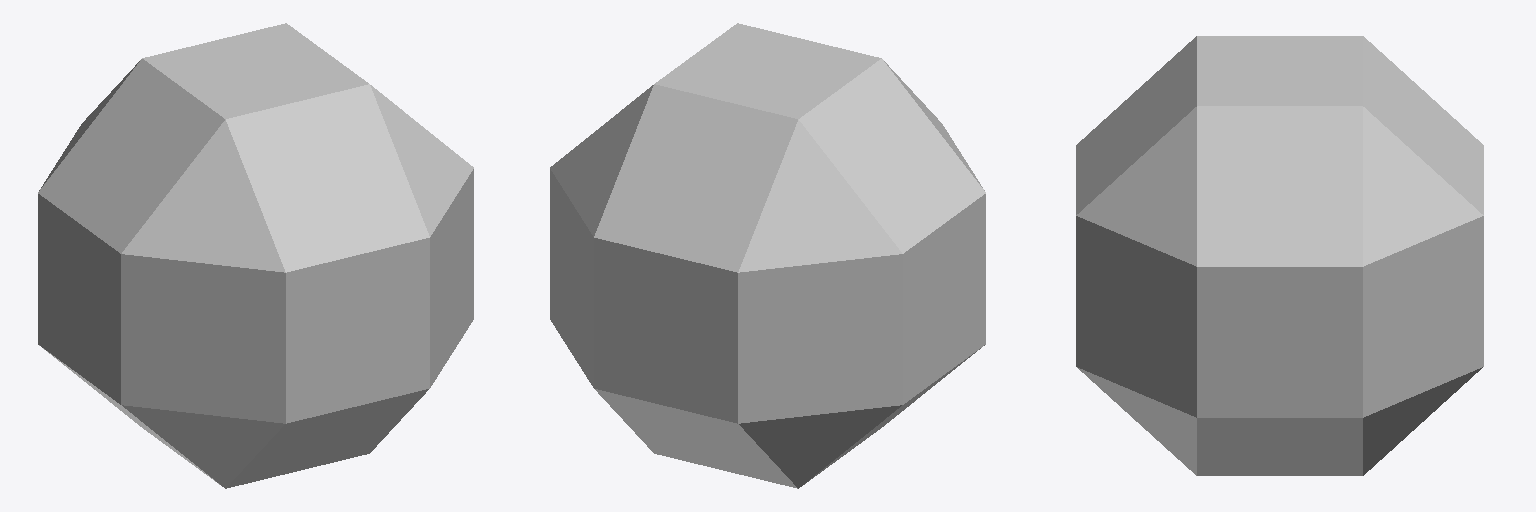
Rendered from polyball.obj.
3 renders of one model, left to right at view 1: azimuth 30°, elevation 25°; view 2: azimuth 150°, elevation 25°; view 3: azimuth 270°, elevation 25°, orthographic.
Visible parts, largest first — view 1: Cube; view 2: Cube; view 3: Cube.
Boxes of the visible parts, <box> form: Cube: <box>38,23,473,488</box>; Cube: <box>550,23,985,488</box>; Cube: <box>1076,36,1483,475</box>.
Bounding box in the file's own units: 2 × 2 × 2.